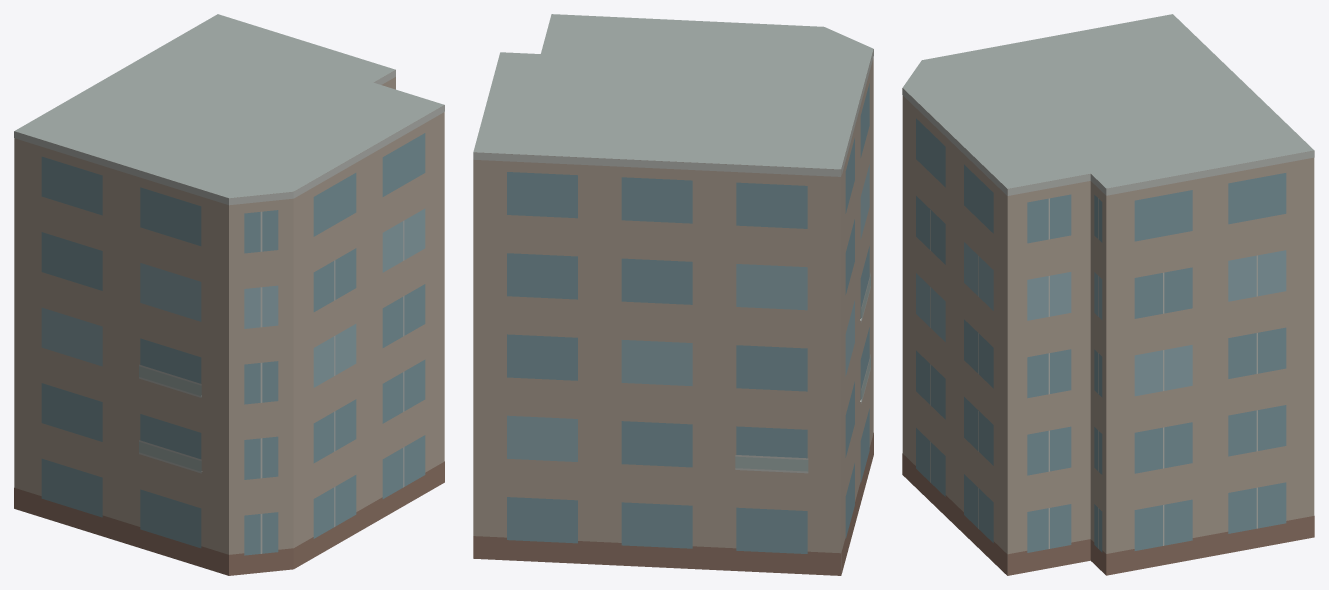
The model's file is survey-upis-32876661.glb.
3 views of the same model, side by side, from view 1: azimuth 30°, elevation 25°; view 2: azimuth 150°, elevation 25°; view 3: azimuth 270°, elevation 25° (orthographic). The views are drawn at different scales.
Visible parts, largest first — view 1: survey-upis-32876661.tmp; view 2: survey-upis-32876661.tmp; view 3: survey-upis-32876661.tmp.
Boxes of the visible parts, box(x1,y1,x2,y2) form: survey-upis-32876661.tmp: box(14, 14, 444, 575); survey-upis-32876661.tmp: box(473, 14, 873, 575); survey-upis-32876661.tmp: box(902, 14, 1314, 575).
Bounding box in the file's own units: 12.81 × 13.2 × 12.75.
